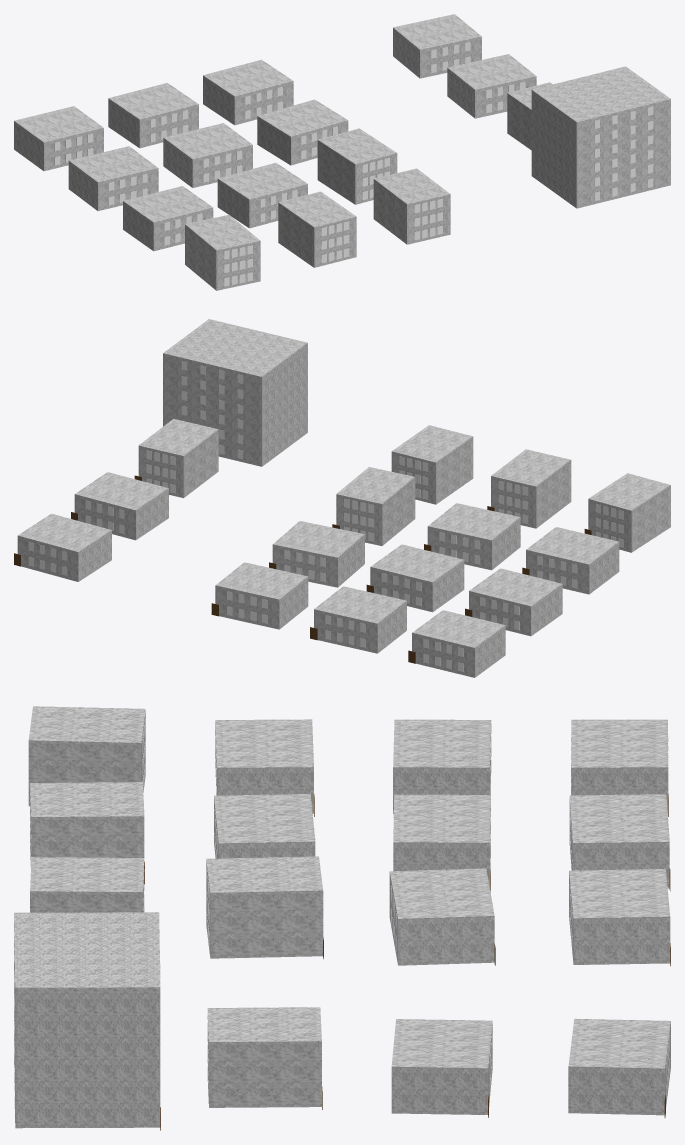
The model's file is bld_mlmv6b7v_5kr4kr4.glb.
3 renders of one model, top to bottom at view 1: azimuth 30°, elevation 25°; view 2: azimuth 150°, elevation 25°; view 3: azimuth 270°, elevation 25°, orthographic. The views are drawn at different scales.
Parts seen in each view (by area): view 1: building-building-1771106653220-19, building-building-1771106653220-16, building-building-1771106653220-17, building-building-1771106653220-15, building-building-1771106653220-1, building-building-1771106653220-2, building-building-1771106653220-12, building-building-1771106653220-5, building-building-1771106653220-6, building-building-1771106653220-0, building-building-1771106653220-4, building-building-1771106653220-7 (+4 smaller); view 2: building-building-1771106653220-19, building-building-1771106653220-4, building-building-1771106653220-15, building-building-1771106653220-0, building-building-1771106653220-2, building-building-1771106653220-1, building-building-1771106653220-16, building-building-1771106653220-14, building-building-1771106653220-9, building-building-1771106653220-12, building-building-1771106653220-6, building-building-1771106653220-5 (+4 smaller); view 3: building-building-1771106653220-19, building-building-1771106653220-12, building-building-1771106653220-14, building-building-1771106653220-7, building-building-1771106653220-4, building-building-1771106653220-2, building-building-1771106653220-9, building-building-1771106653220-15, building-building-1771106653220-16, building-building-1771106653220-1, building-building-1771106653220-10, building-building-1771106653220-0 (+4 smaller).
Part boxes in pixels (x1,y1,x2,y2): building-building-1771106653220-19: [531, 66, 670, 208]; building-building-1771106653220-16: [278, 191, 356, 267]; building-building-1771106653220-17: [373, 168, 450, 244]; building-building-1771106653220-15: [185, 215, 260, 290]; building-building-1771106653220-1: [108, 83, 198, 148]; building-building-1771106653220-2: [203, 59, 293, 125]; building-building-1771106653220-12: [317, 128, 397, 204]; building-building-1771106653220-5: [68, 146, 158, 210]; building-building-1771106653220-6: [163, 123, 252, 187]; building-building-1771106653220-0: [14, 106, 103, 171]; building-building-1771106653220-4: [393, 14, 481, 78]; building-building-1771106653220-7: [257, 99, 348, 165]; building-building-1771106653220-19: [163, 319, 307, 466]; building-building-1771106653220-4: [14, 513, 111, 581]; building-building-1771106653220-15: [584, 473, 670, 552]; building-building-1771106653220-0: [408, 610, 505, 677]; building-building-1771106653220-2: [211, 562, 308, 629]; building-building-1771106653220-1: [310, 586, 406, 653]; building-building-1771106653220-16: [487, 449, 571, 528]; building-building-1771106653220-14: [134, 418, 218, 498]; building-building-1771106653220-9: [71, 472, 168, 540]; building-building-1771106653220-12: [332, 467, 415, 545]; building-building-1771106653220-6: [366, 544, 464, 612]; building-building-1771106653220-5: [465, 568, 562, 636]; building-building-1771106653220-19: [14, 912, 160, 1130]; building-building-1771106653220-12: [206, 856, 323, 958]; building-building-1771106653220-14: [207, 1007, 322, 1109]; building-building-1771106653220-7: [389, 868, 495, 965]; building-building-1771106653220-4: [568, 1018, 670, 1117]; building-building-1771106653220-2: [569, 869, 670, 966]; building-building-1771106653220-9: [391, 1019, 492, 1117]; building-building-1771106653220-15: [28, 706, 145, 806]; building-building-1771106653220-16: [30, 782, 144, 884]; building-building-1771106653220-1: [569, 794, 670, 891]; building-building-1771106653220-10: [215, 719, 314, 816]; building-building-1771106653220-0: [571, 719, 668, 816].
Bounding box in the file's own units: 107 × 19.23 × 81.44.
Materials: 80 (16 with a texture image).
